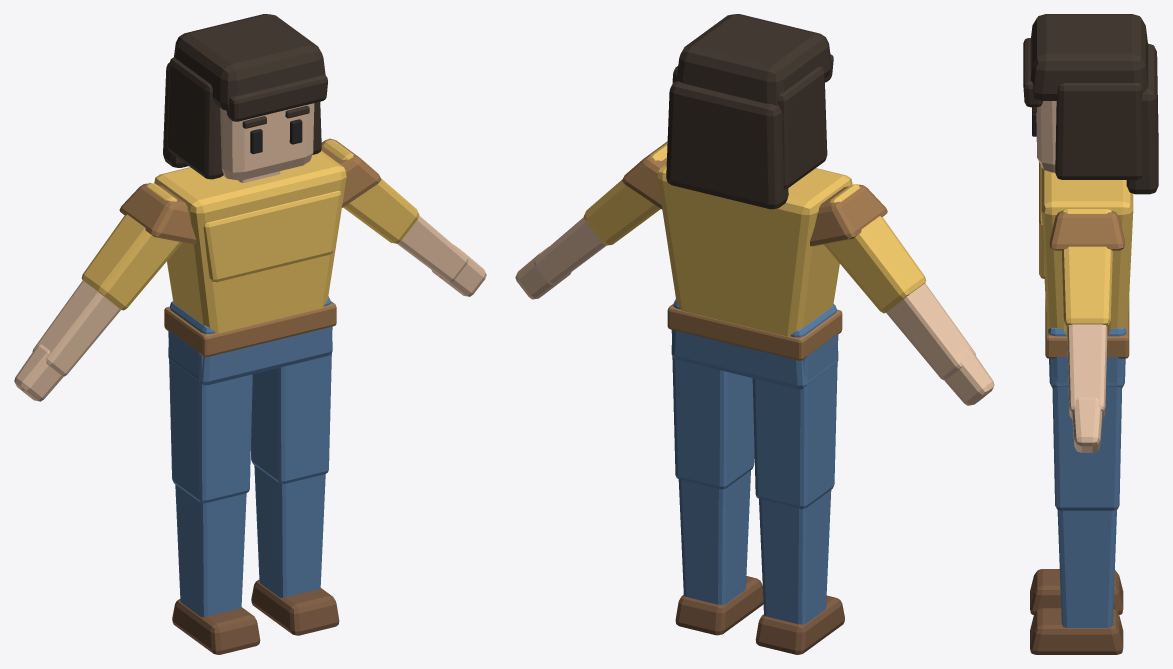
File: character_v3_for_mixamo.fbx
3 views of the same model, side by side, from view 1: azimuth 30°, elevation 25°; view 2: azimuth 150°, elevation 25°; view 3: azimuth 270°, elevation 25° (orthographic).
Parts seen in each view (by area): view 1: Character; view 2: Character; view 3: Character.
Part boxes in pixels (x1,y1,x2,y2): Character: (14, 14, 486, 654); Character: (515, 14, 994, 654); Character: (1023, 14, 1158, 654).
Bounding box in the file's own units: 1.53 × 1.83 × 0.3787.
